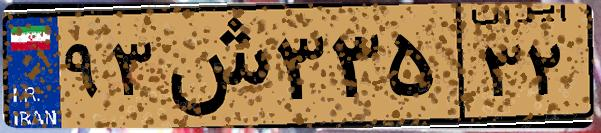2: (525, 38, 570, 115)
3: (270, 28, 330, 110), (330, 28, 385, 110), (475, 38, 525, 113), (110, 28, 158, 98)
5: (385, 28, 445, 110)
9: (57, 26, 110, 100)
ش: (158, 12, 270, 120)
